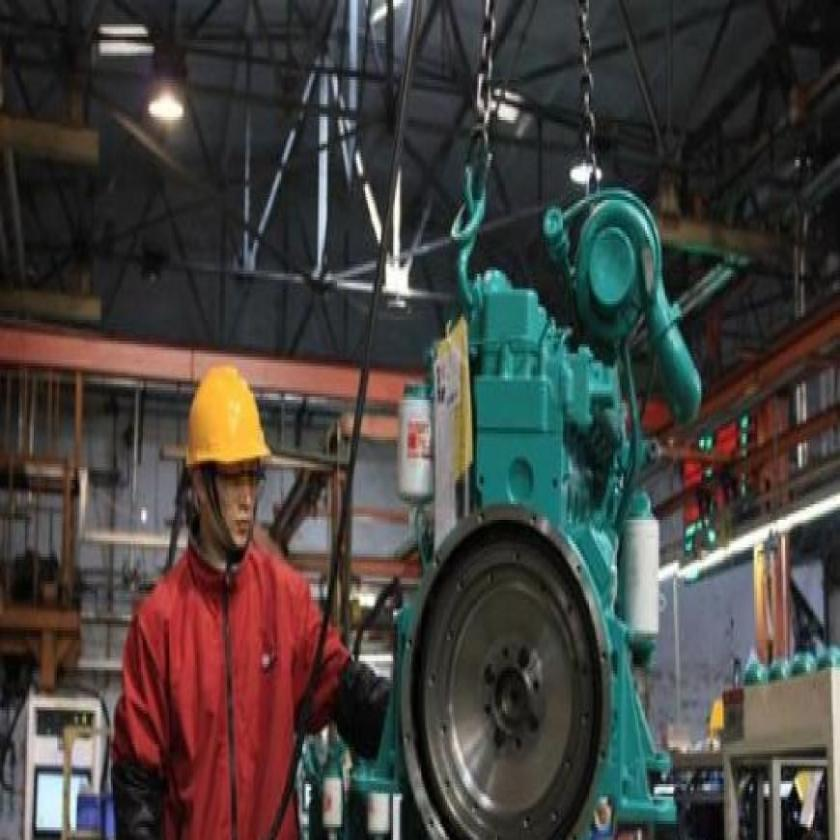Con_casco: (176, 357, 278, 587)
